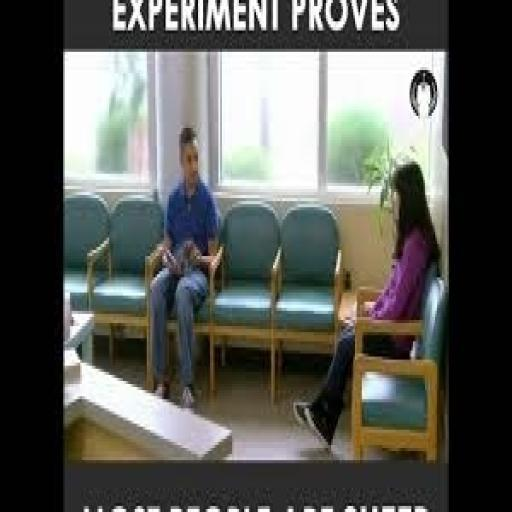sitting: (292, 155, 440, 451), (147, 122, 220, 408)
